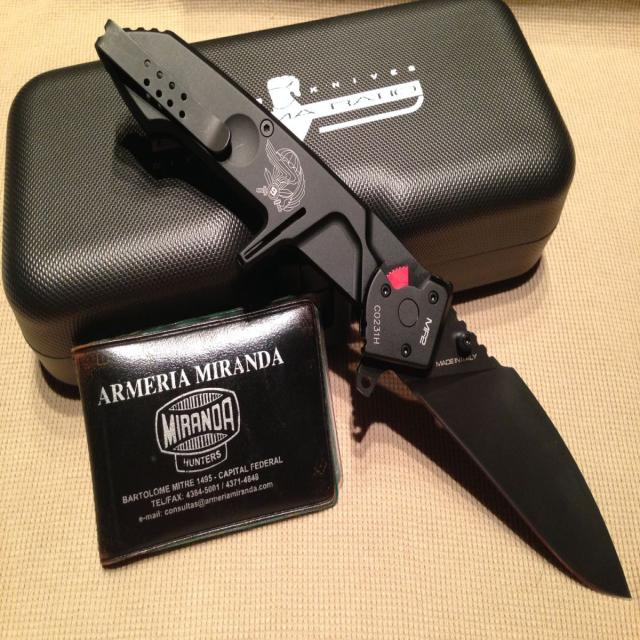knife: (96, 14, 638, 608)
